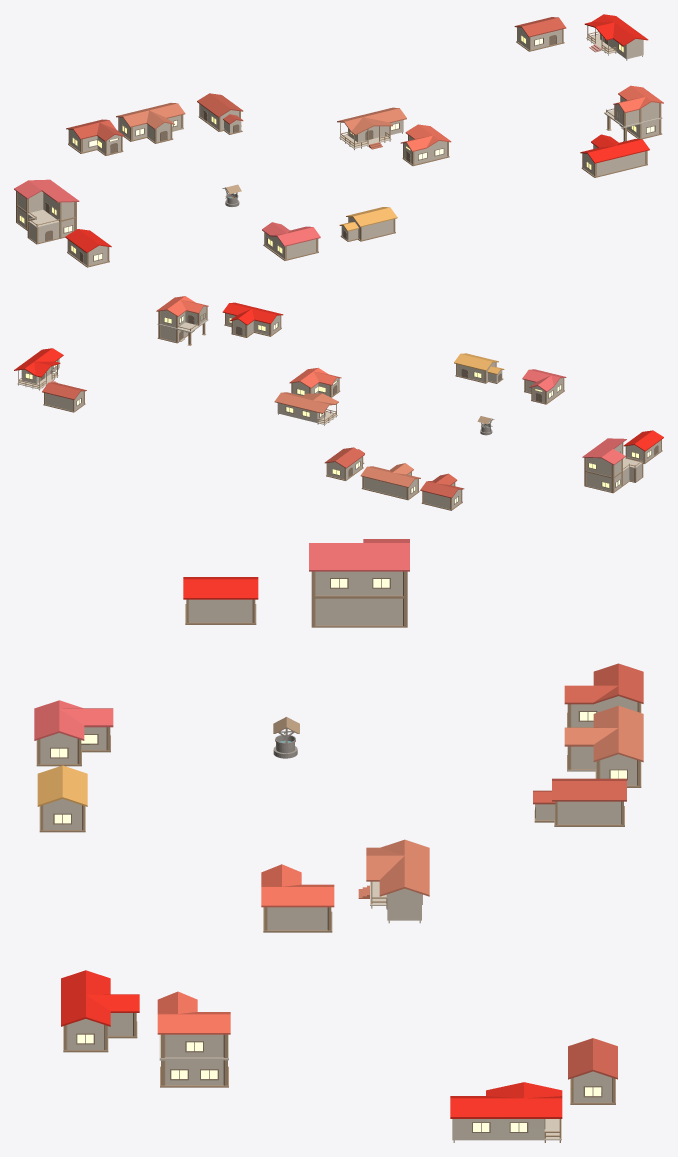
Rendered from desa1 1.fbx.
3 renders of one model, top to bottom at view 1: azimuth 30°, elevation 25°; view 2: azimuth 150°, elevation 25°; view 3: azimuth 270°, elevation 25°, orthographic. The views are drawn at different scales.
Parts seen in each view (by area): view 1: Rumah6, Rumah3, Rumah9, Rumah7, Rumah11, Rumah4, Rumah13, Rumah2, Rumah10, Rumah12, Rumah5, Rumah8 (+1 smaller); view 2: Rumah6, Rumah3, Rumah7, Rumah9, Rumah11, Rumah4, Rumah2, Rumah12, Rumah13, Rumah10, Rumah8, Rumah5 (+1 smaller); view 3: Rumah6, Rumah3, Rumah4, Rumah9, Rumah7, Rumah11, Rumah13, Rumah5, Rumah10, Rumah1, Rumah2, Rumah12 (+2 smaller).
Boxes of the visible parts, x1,y1,x2,y2 form: Rumah6: (14, 179, 79, 244); Rumah3: (604, 85, 663, 141); Rumah9: (580, 134, 649, 177); Rumah7: (116, 102, 185, 143); Rumah11: (337, 107, 406, 150); Rumah4: (584, 14, 648, 60); Rumah13: (262, 222, 320, 260); Rumah2: (66, 119, 124, 155); Rumah10: (400, 124, 451, 166); Rumah12: (339, 207, 397, 241); Rumah5: (197, 93, 243, 134); Rumah8: (514, 17, 566, 51); Rumah6: (582, 438, 643, 493); Rumah3: (156, 296, 208, 345); Rumah7: (360, 463, 420, 500); Rumah9: (222, 302, 283, 337); Rumah11: (274, 392, 338, 425); Rumah4: (14, 348, 63, 390); Rumah2: (420, 473, 464, 510); Rumah12: (454, 353, 504, 383); Rumah13: (522, 369, 566, 404); Rumah10: (289, 367, 341, 397); Rumah8: (42, 382, 86, 412); Rumah5: (324, 447, 364, 480); Rumah6: (309, 539, 409, 627); Rumah3: (157, 991, 230, 1087); Rumah4: (450, 1082, 562, 1142); Rumah9: (61, 970, 139, 1052); Rumah7: (564, 705, 643, 787); Rumah11: (358, 839, 429, 923); Rumah13: (34, 700, 113, 766); Rumah5: (533, 778, 626, 826); Rumah10: (261, 864, 334, 932); Rumah1: (183, 577, 258, 624); Rumah2: (564, 663, 643, 727); Rumah12: (37, 765, 87, 832).
Bounding box in the file's own units: 34052 × 1942 × 15847.
